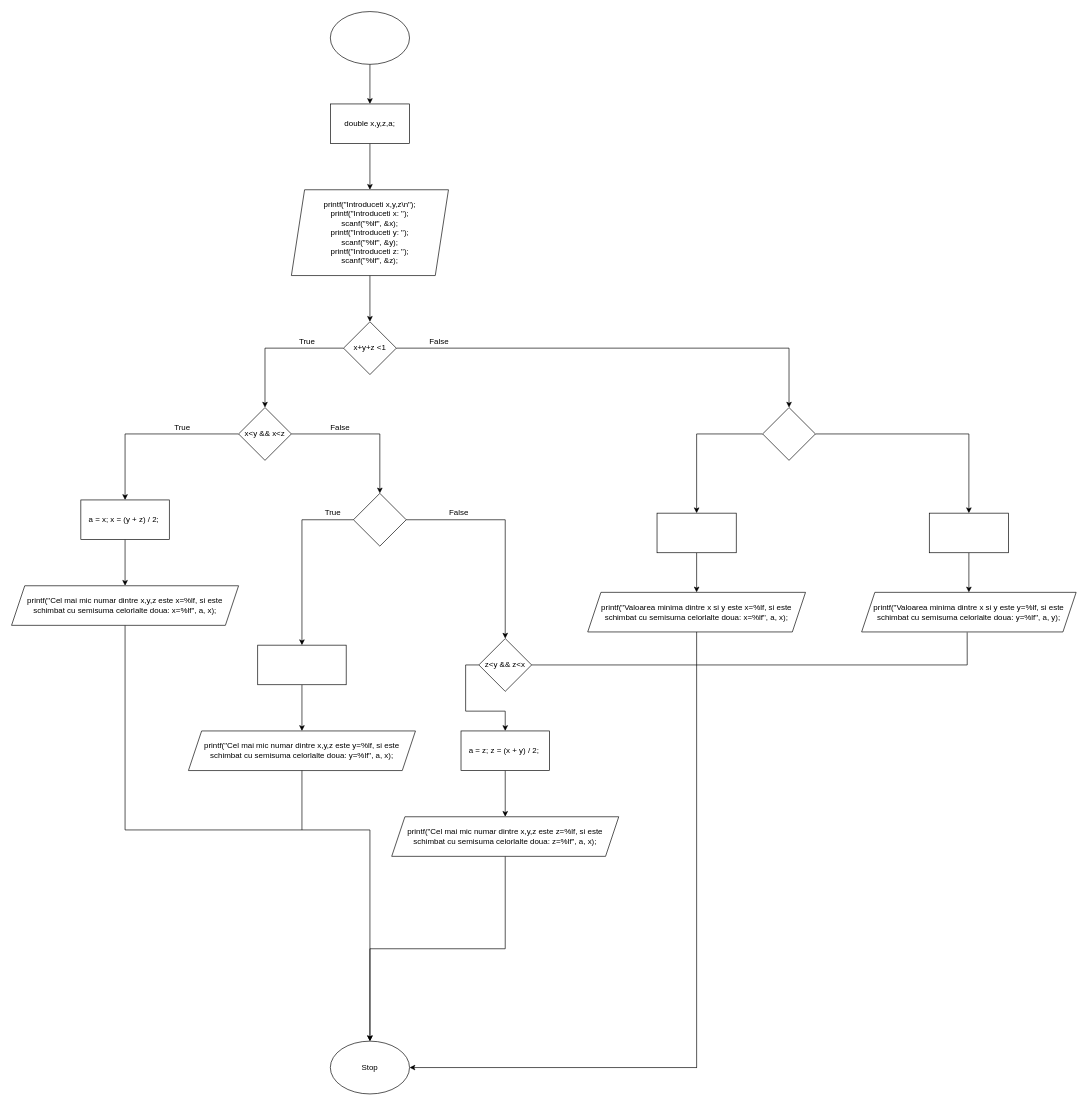
Image size: 1088x1106. Some labels were removed from this diagram. Here are the shapes that lost their labels. From the top down, the centre of each, then its label:
At (x=370, y=37): "Start".
At (x=788, y=433): "x<y".
At (x=379, y=519): "y<x && y<z".
At (x=696, y=532): "a=x; x=(y+z)/2;".
At (x=968, y=532): "a=y; y=(x+z)/2;".
At (x=301, y=664): "a = y; y = (x + z) / 2;".
